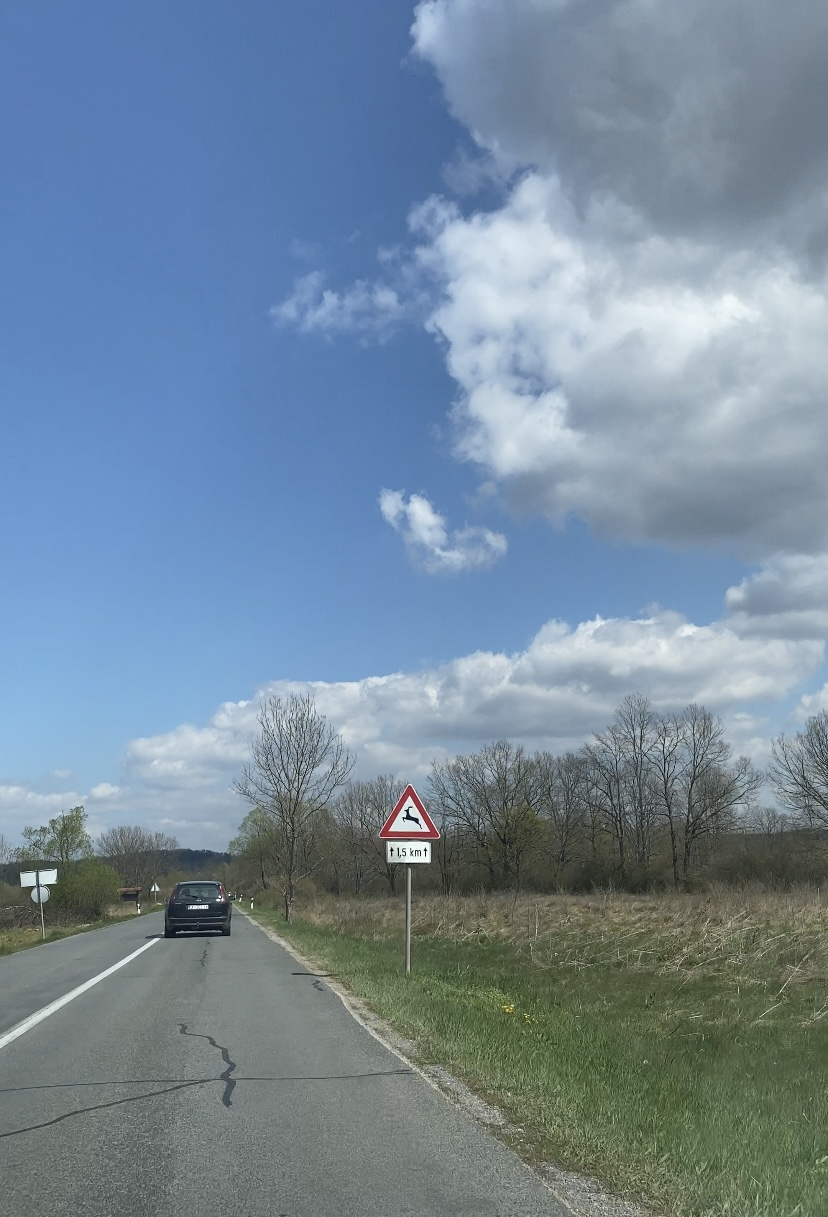Divljač na cesti: (378, 783, 441, 840)
